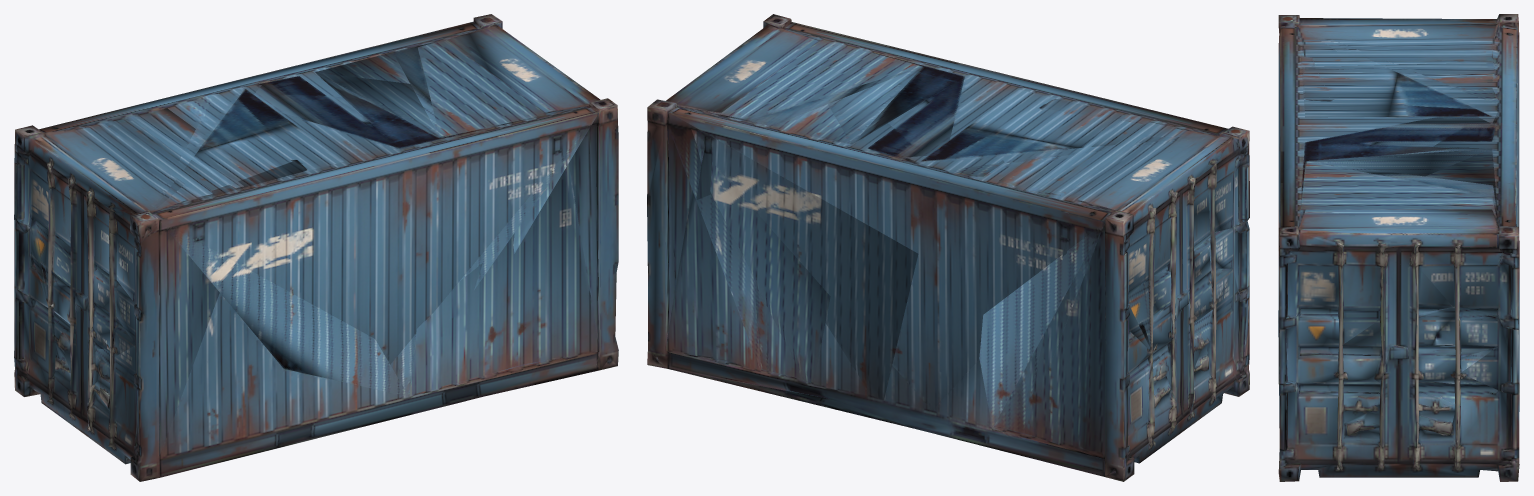
Rendered from container.glb.
The picture shows the model from 3 angles, left to right: view 1: azimuth 30°, elevation 25°; view 2: azimuth 150°, elevation 25°; view 3: azimuth 270°, elevation 25°; orthographic projection. The views are drawn at different scales.
Parts seen in each view (by area): view 1: Mesh_0; view 2: Mesh_0; view 3: Mesh_0.
Part boxes in pixels (x1,y1,x2,y2): Mesh_0: (14, 14, 618, 481); Mesh_0: (647, 14, 1249, 481); Mesh_0: (1278, 14, 1519, 481).
Bounding box in the file's own units: 1.89 × 0.9849 × 0.8689.
1 material, 1 textured.
